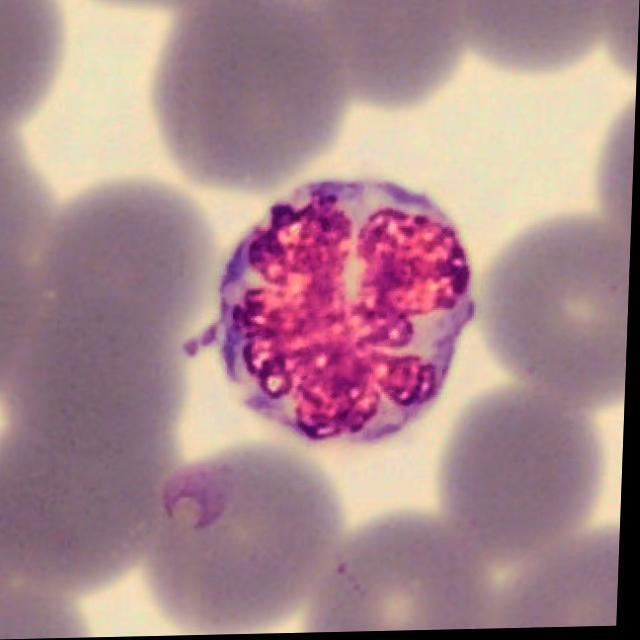Linfocito atipico: (197, 181, 478, 443)
